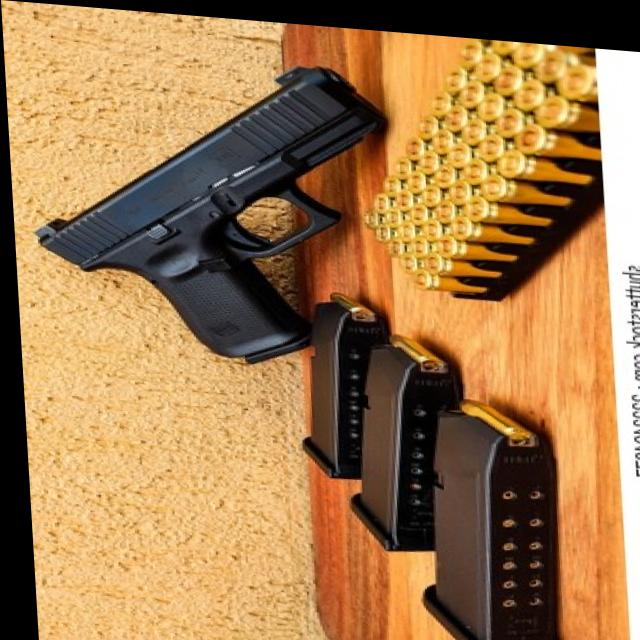handgun: (22, 30, 381, 368)
